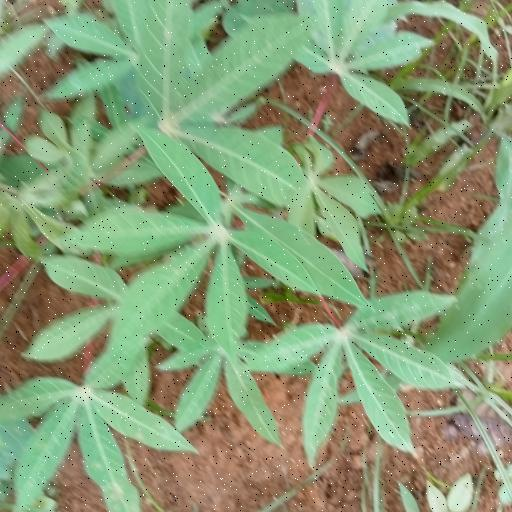Cassava_Mosaic: (84, 146, 357, 354)
